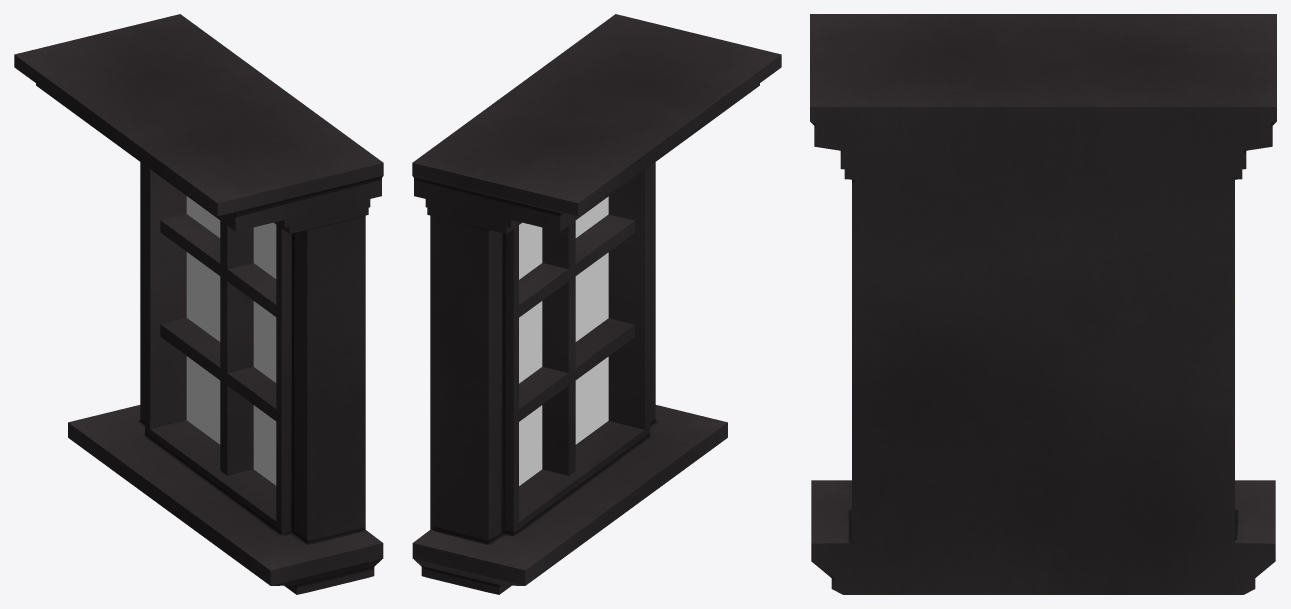
File: kFenster.fbx
3 views of the same model, side by side, from view 1: azimuth 30°, elevation 25°; view 2: azimuth 150°, elevation 25°; view 3: azimuth 270°, elevation 25° (orthographic). The views are drawn at different scales.
Visible parts, largest first — view 1: Alle_Fenster; view 2: Alle_Fenster; view 3: Alle_Fenster.
Boxes of the visible parts, left/top/right/bottom form: Alle_Fenster: left=14, top=14, right=383, bottom=594; Alle_Fenster: left=412, top=14, right=781, bottom=594; Alle_Fenster: left=810, top=14, right=1276, bottom=594.
Bounding box in the file's own units: 278 × 680 × 590.
